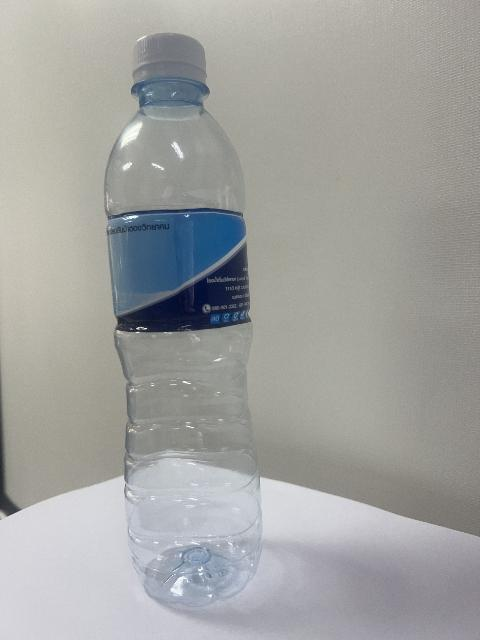bottle: (105, 34, 261, 606)
